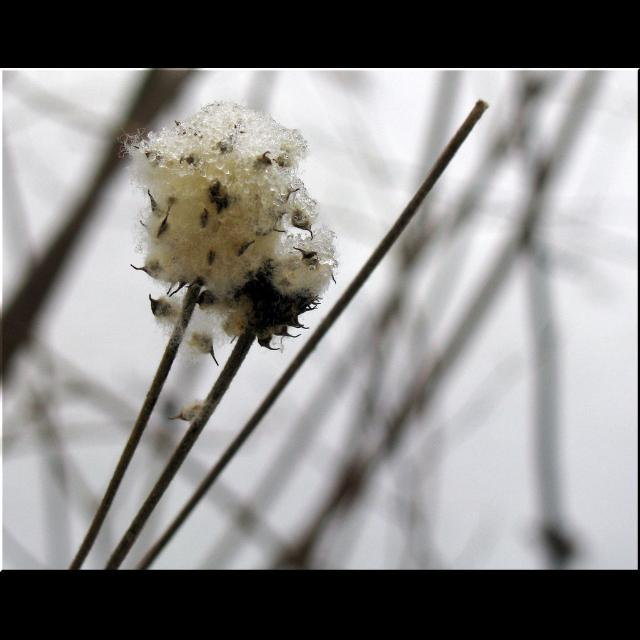Flower: (112, 100, 334, 362)
